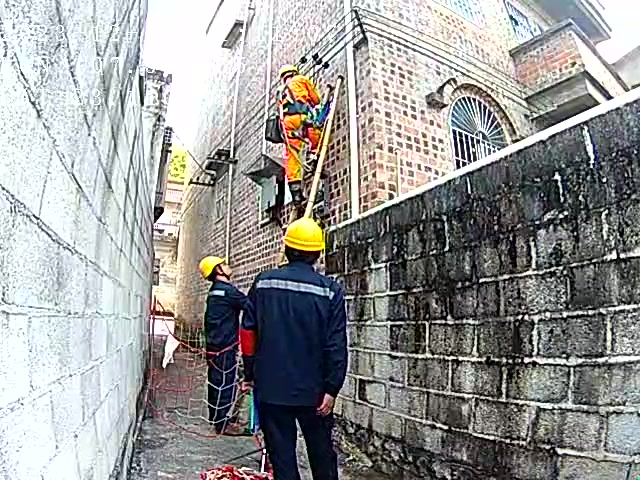halt: (283, 220, 328, 265), (202, 259, 235, 285), (282, 67, 302, 85)
inear: (214, 266, 227, 279)
